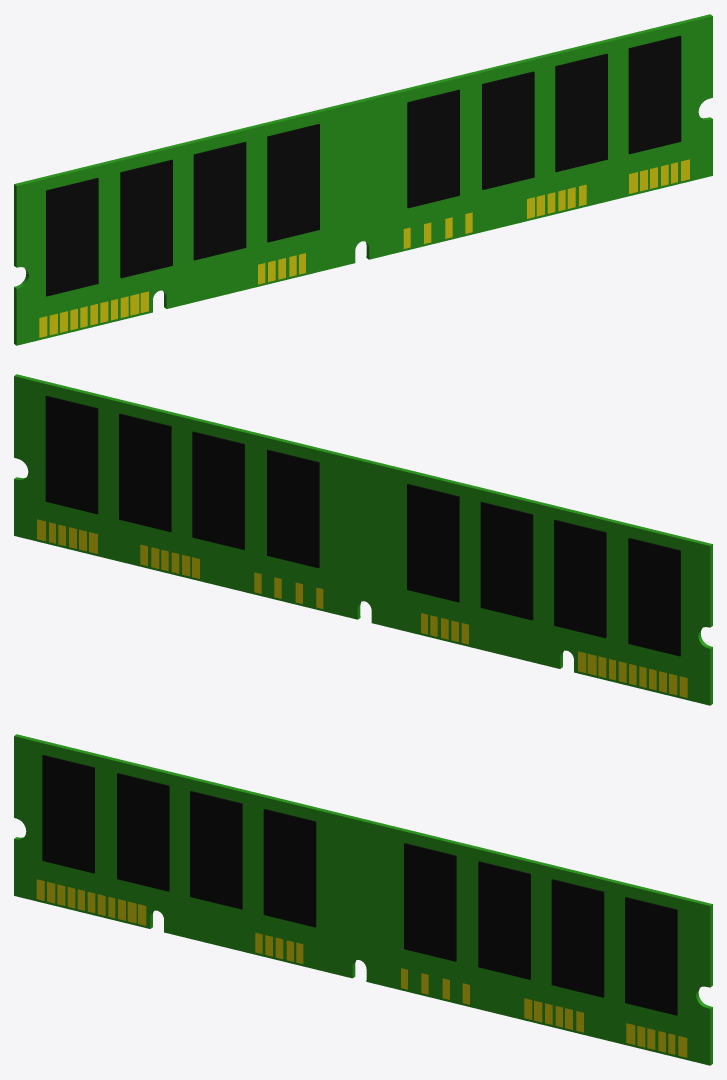
The model's file is ram.glb.
The picture shows the model from 3 angles, top to bottom: view 1: azimuth 30°, elevation 25°; view 2: azimuth 150°, elevation 25°; view 3: azimuth 330°, elevation 25°; orthographic projection.
Parts seen in each view (by area): view 1: RAM; view 2: RAM; view 3: RAM.
Part boxes in pixels (x1=…): RAM: x1=14, y1=14, x2=712, y2=345; RAM: x1=14, y1=374, x2=712, y2=705; RAM: x1=14, y1=734, x2=712, y2=1065.
Size of the model in its own units: 5 by 1.1 by 0.0545.
